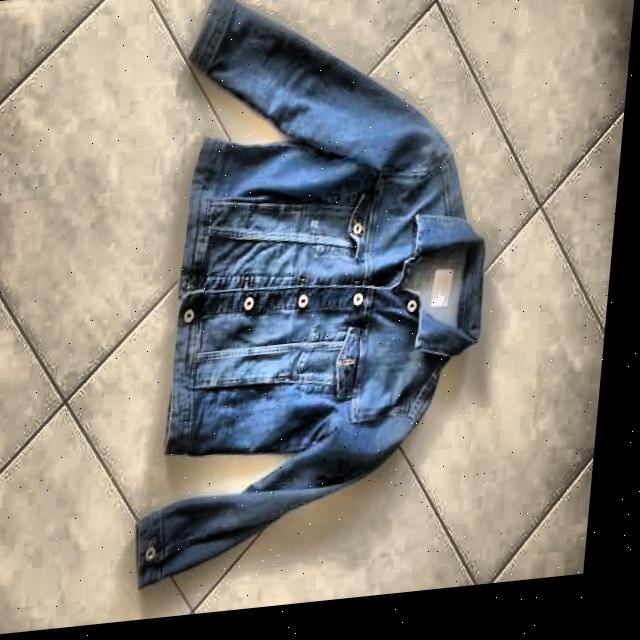clothes: (131, 0, 514, 592)
